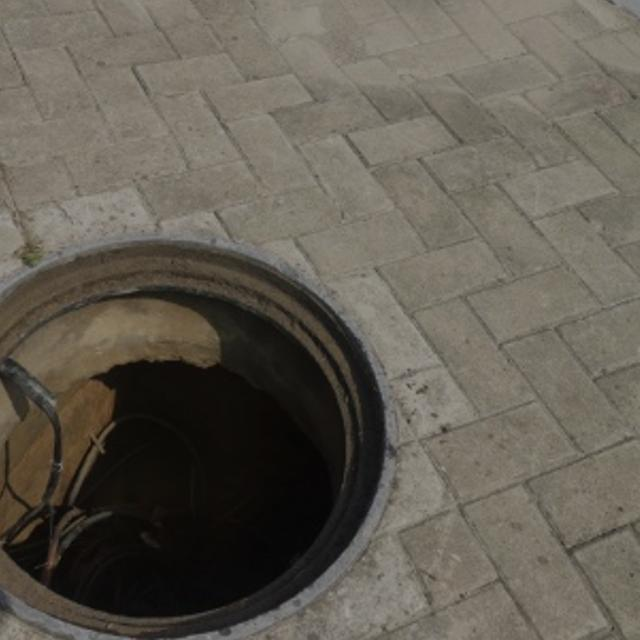lose: (0, 232, 400, 640)
